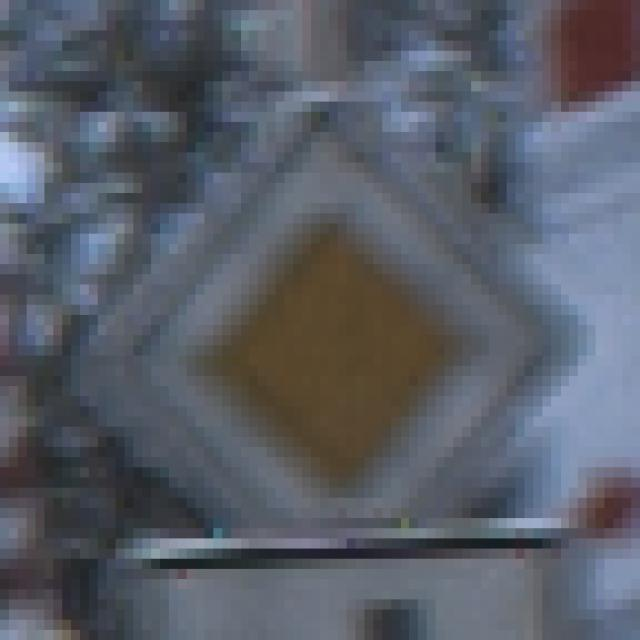Main Road: (54, 62, 588, 590)
